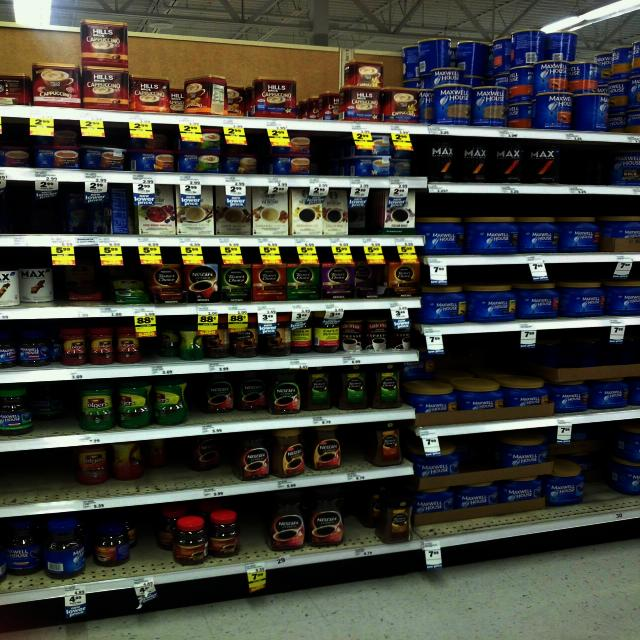empty_space: (6, 459, 62, 490), (344, 427, 372, 465), (139, 517, 157, 572), (575, 153, 606, 183), (243, 505, 257, 555)
